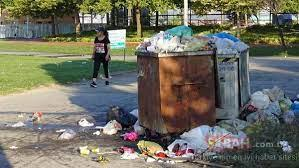Container: (137, 52, 221, 142), (136, 52, 217, 126), (210, 48, 252, 116)
Garbage: (137, 27, 214, 54), (184, 124, 243, 151), (209, 30, 247, 53), (79, 147, 112, 167), (138, 141, 163, 167), (248, 110, 284, 128), (167, 137, 188, 165), (112, 141, 137, 161), (247, 90, 271, 110), (103, 112, 121, 134), (108, 103, 132, 118), (188, 36, 210, 52), (161, 38, 186, 52), (216, 38, 237, 52), (264, 85, 284, 98), (51, 125, 69, 138), (76, 117, 92, 128), (30, 109, 42, 121), (147, 42, 158, 52), (125, 134, 138, 141), (96, 128, 100, 137)
